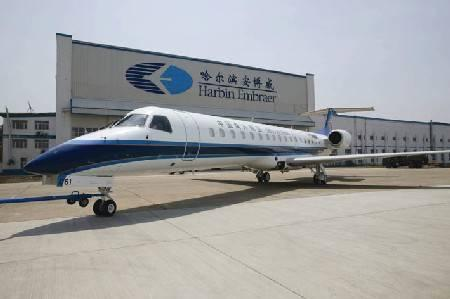airplane: (15, 107, 420, 209)
